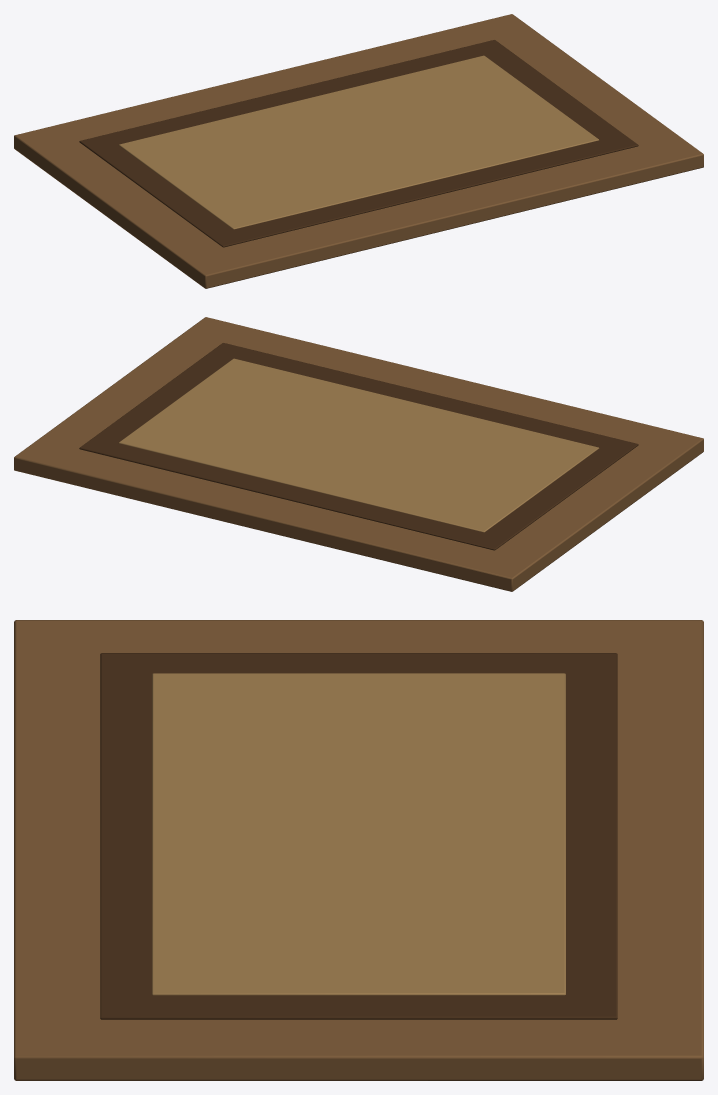
File: ThamChuiChan_Cua.glb
3 views of the same model, one above another, from view 1: azimuth 30°, elevation 25°; view 2: azimuth 150°, elevation 25°; view 3: azimuth 270°, elevation 25° (orthographic). The views are drawn at different scales.
Visible parts, largest first — view 1: ThamChuiChan_Cua; view 2: ThamChuiChan_Cua; view 3: ThamChuiChan_Cua.
Part boxes in pixels (x1,y1,x2,y2): ThamChuiChan_Cua: (14, 14, 703, 288); ThamChuiChan_Cua: (14, 317, 703, 591); ThamChuiChan_Cua: (14, 620, 703, 1080).
Bounding box in the file's own units: 0.6 × 0.019 × 0.4.
